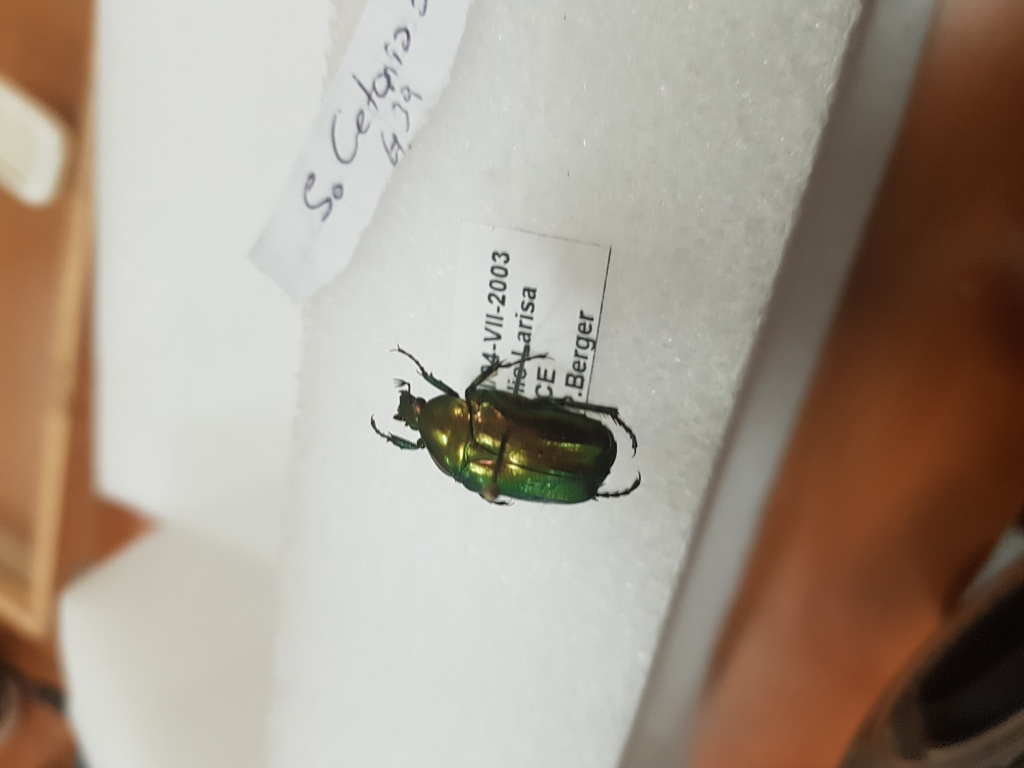Cetonia_aurata: (370, 340, 646, 512)
